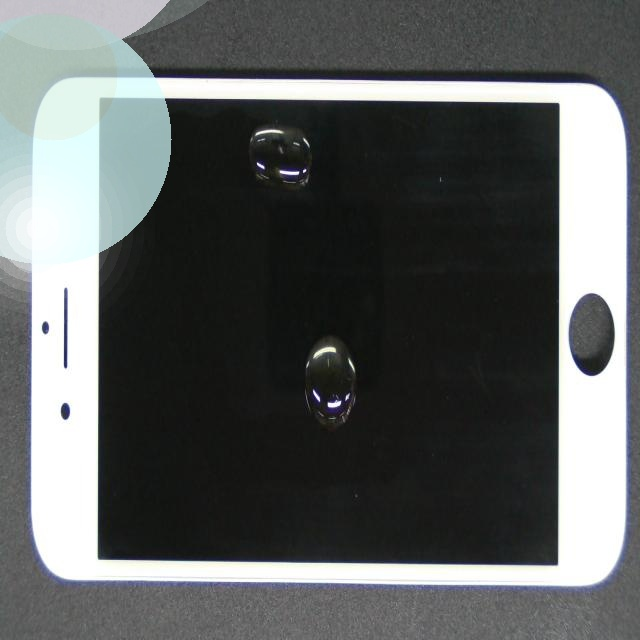oil: (204, 166, 524, 498), (173, 64, 440, 193)
